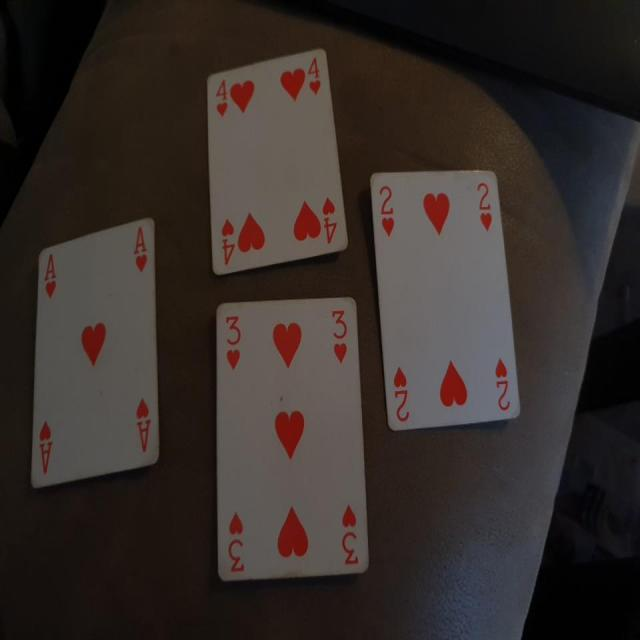2 Hearts: (367, 153, 527, 430)
3 Hearts: (210, 296, 374, 586)
4 Hearts: (192, 36, 357, 279)
A Hearts: (24, 213, 166, 507)
